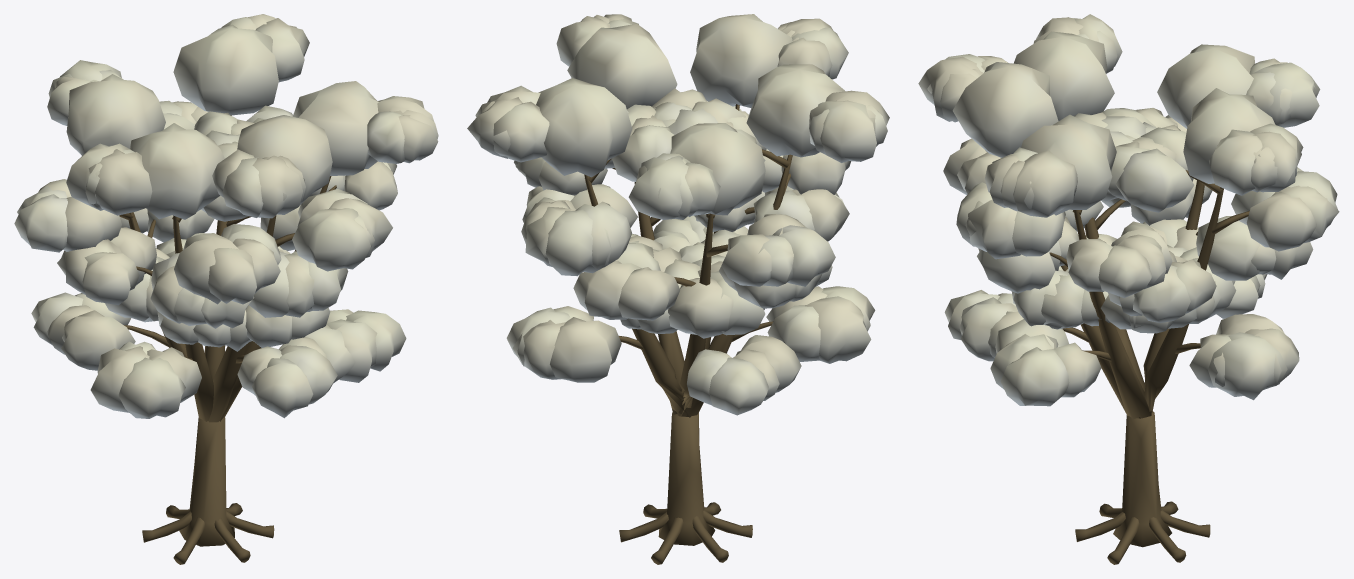
3 views of the same model, side by side, from view 1: azimuth 30°, elevation 25°; view 2: azimuth 150°, elevation 25°; view 3: azimuth 270°, elevation 25° (orthographic). The views are drawn at different scales.
Parts seen in each view (by area): view 1: crown, trunk; view 2: crown, trunk; view 3: crown, trunk.
Part boxes in pixels (x1,y1,x2,y2): crown: (14,14,438,418); trunk: (119,115,336,564); crown: (467,14,889,415); trunk: (584,104,792,564); crown: (918,14,1339,406); trunk: (1049,170,1249,564).
Size of the model in its own units: 10.62 by 13.66 by 10.91.
